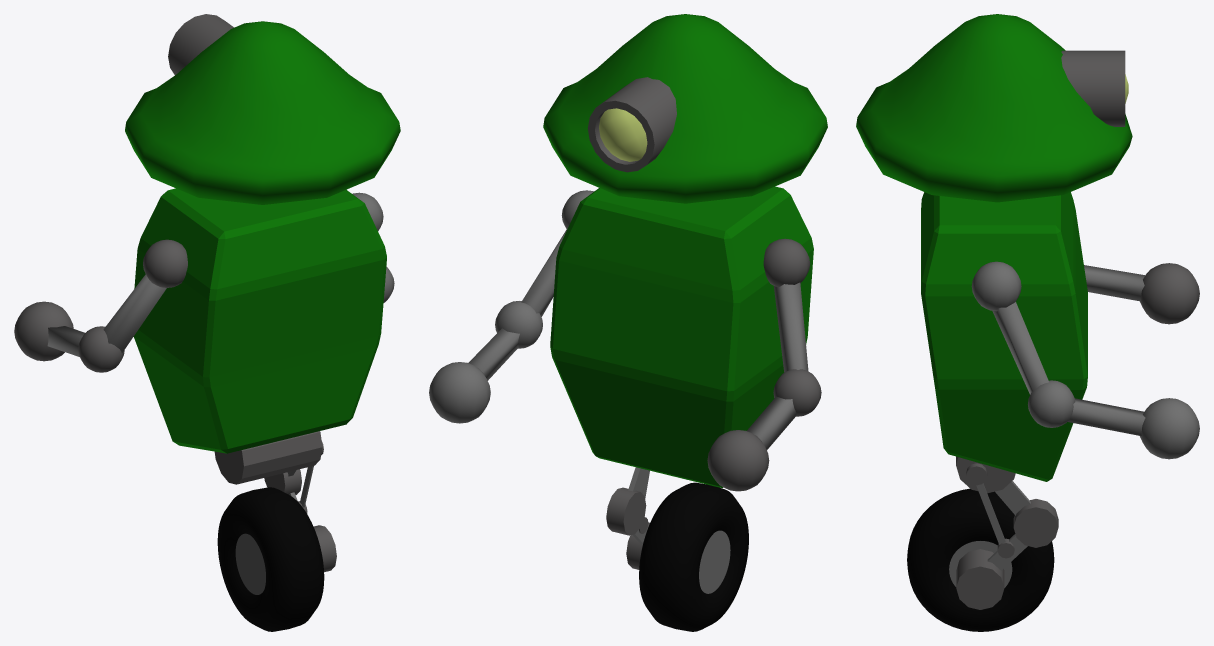
The model's file is player1.glb.
3 renders of one model, left to right at view 1: azimuth 30°, elevation 25°; view 2: azimuth 150°, elevation 25°; view 3: azimuth 270°, elevation 25°, orthographic. The views are drawn at different scales.
Parts seen in each view (by area): view 1: Cube, Sphere.001, Torus, Sphere, Cylinder, Cylinder.006, Cylinder.005, Cylinder.002, Cylinder.001; view 2: Cube, Sphere.001, Sphere, Torus, Cylinder.006, Cylinder.001, Cylinder.005; view 3: Cube, Sphere.001, Sphere, Torus, Cylinder.006, Cylinder.002, Cylinder.001, Cylinder, Cylinder.005, Cube.001, Cube.003.
Part boxes in pixels (box(x1,y1,x2,y2)): Cube: box(133, 188, 386, 453); Sphere.001: box(125, 21, 400, 204); Torus: box(217, 487, 324, 631); Sphere: box(14, 192, 394, 372); Cylinder: box(214, 431, 322, 484); Cylinder.006: box(168, 14, 233, 74); Cylinder.005: box(235, 533, 265, 594); Cylinder.002: box(313, 525, 336, 572); Cylinder.001: box(264, 469, 301, 494); Cube: box(550, 186, 813, 488); Sphere.001: box(543, 14, 827, 203); Sphere: box(429, 190, 821, 491); Torus: box(639, 482, 748, 631); Cylinder.006: box(587, 77, 676, 172); Cylinder.001: box(606, 487, 646, 535); Cylinder.005: box(699, 530, 730, 593); Cube: box(921, 192, 1087, 481); Sphere.001: box(856, 14, 1132, 202); Sphere: box(971, 261, 1199, 459); Torus: box(907, 488, 1054, 631); Cylinder.006: box(1061, 50, 1128, 126); Cylinder.002: box(956, 549, 1004, 609); Cylinder.001: box(1013, 499, 1058, 547); Cylinder: box(956, 456, 1015, 493); Cylinder.005: box(949, 541, 1012, 587); Cube.001: box(995, 481, 1030, 515); Cube.003: box(976, 483, 1005, 544).
Size of the model in its own units: 0.5706 by 1.01 by 0.5153.
